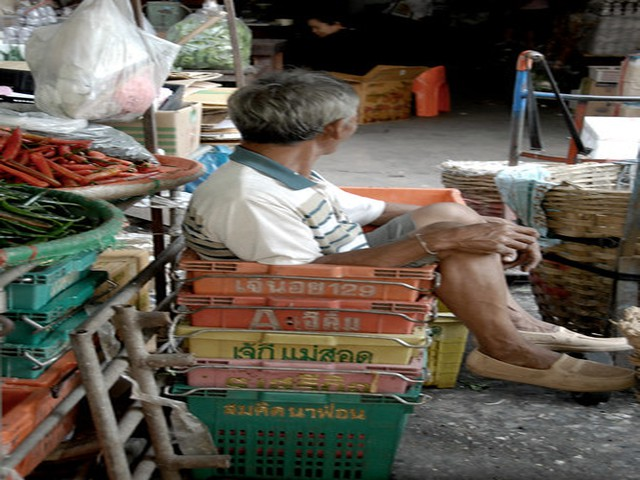Person: (175, 63, 637, 391)
